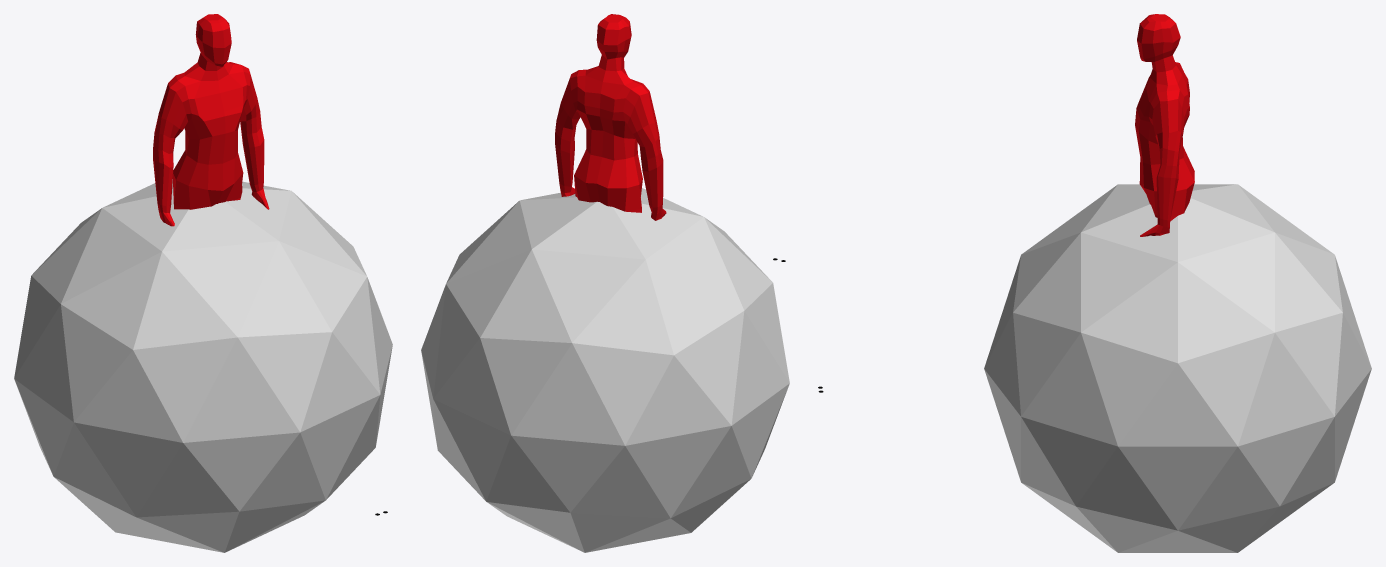
Rendered from redman.fbx.
3 views of the same model, side by side, from view 1: azimuth 30°, elevation 25°; view 2: azimuth 150°, elevation 25°; view 3: azimuth 270°, elevation 25° (orthographic). The views are drawn at different scales.
Parts seen in each view (by area): view 1: 棱角球, Circle.001; view 2: 棱角球, Circle.001; view 3: 棱角球, Circle.001.
Boxes of the visible parts, x1,y1,x2,y2 form: 棱角球: (14, 179, 392, 552); Circle.001: (153, 14, 387, 515); 棱角球: (421, 188, 789, 552); Circle.001: (555, 14, 785, 261); 棱角球: (984, 184, 1371, 552); Circle.001: (818, 14, 1194, 392).
Bounding box in the file's own units: 190 × 300 × 286.
